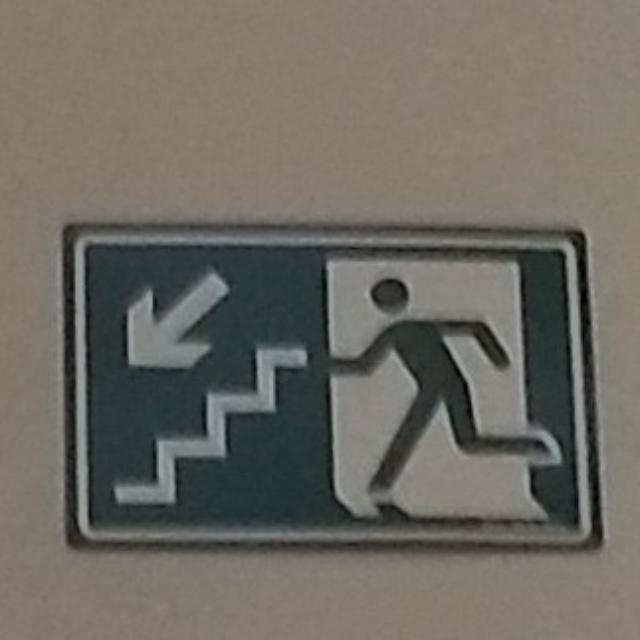exit: (63, 224, 600, 547)
